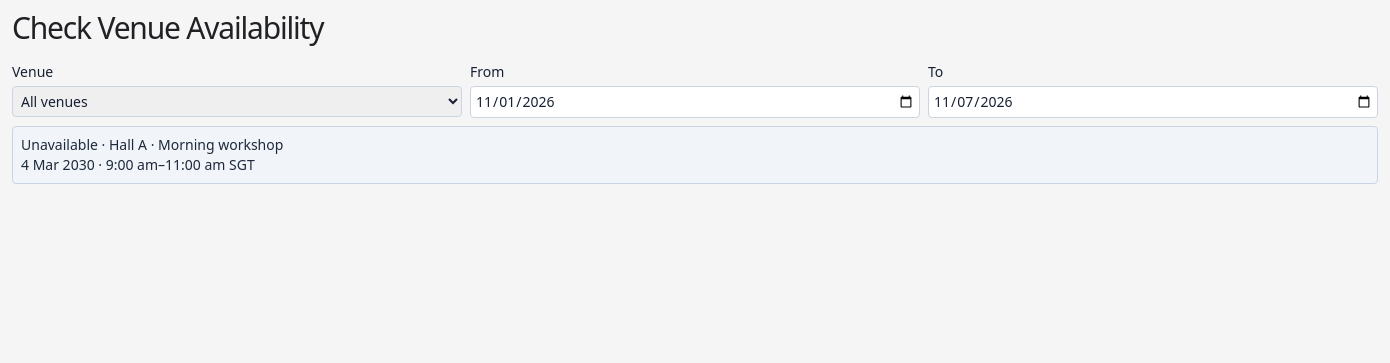
it: SCRUM-77 AC1: a closure shows its reason
The width and height of the screenshot is (1390, 363).
Click the button "Unavailable" at [59, 144], box [12,126,1378,184]
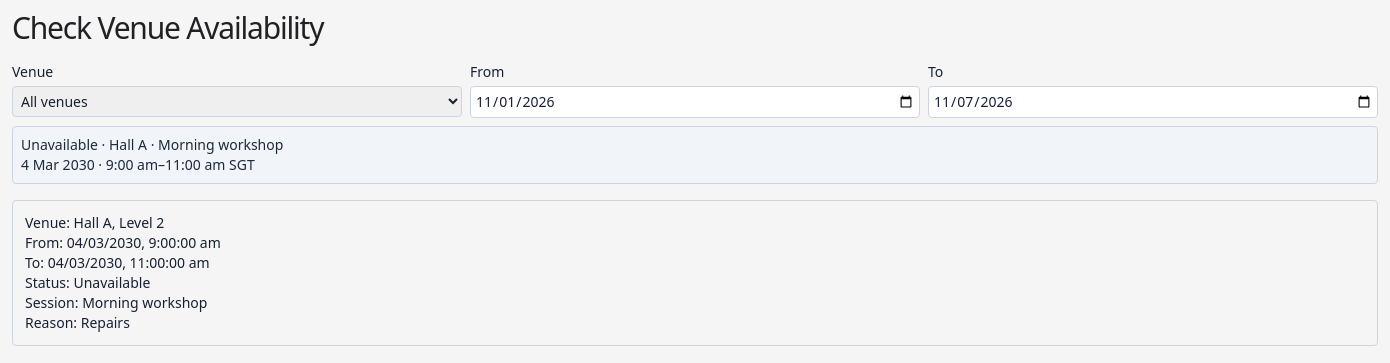
Result: the text "Repairs" is shown at [81,313,130,332]
